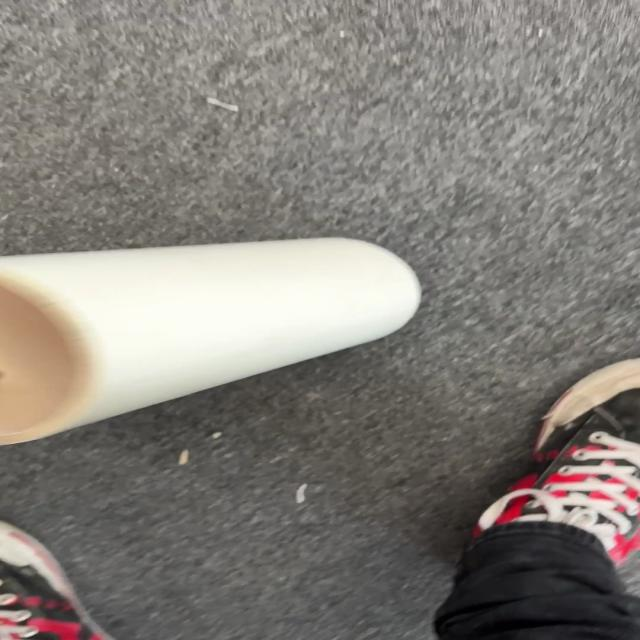Coral: (0, 235, 422, 446)
